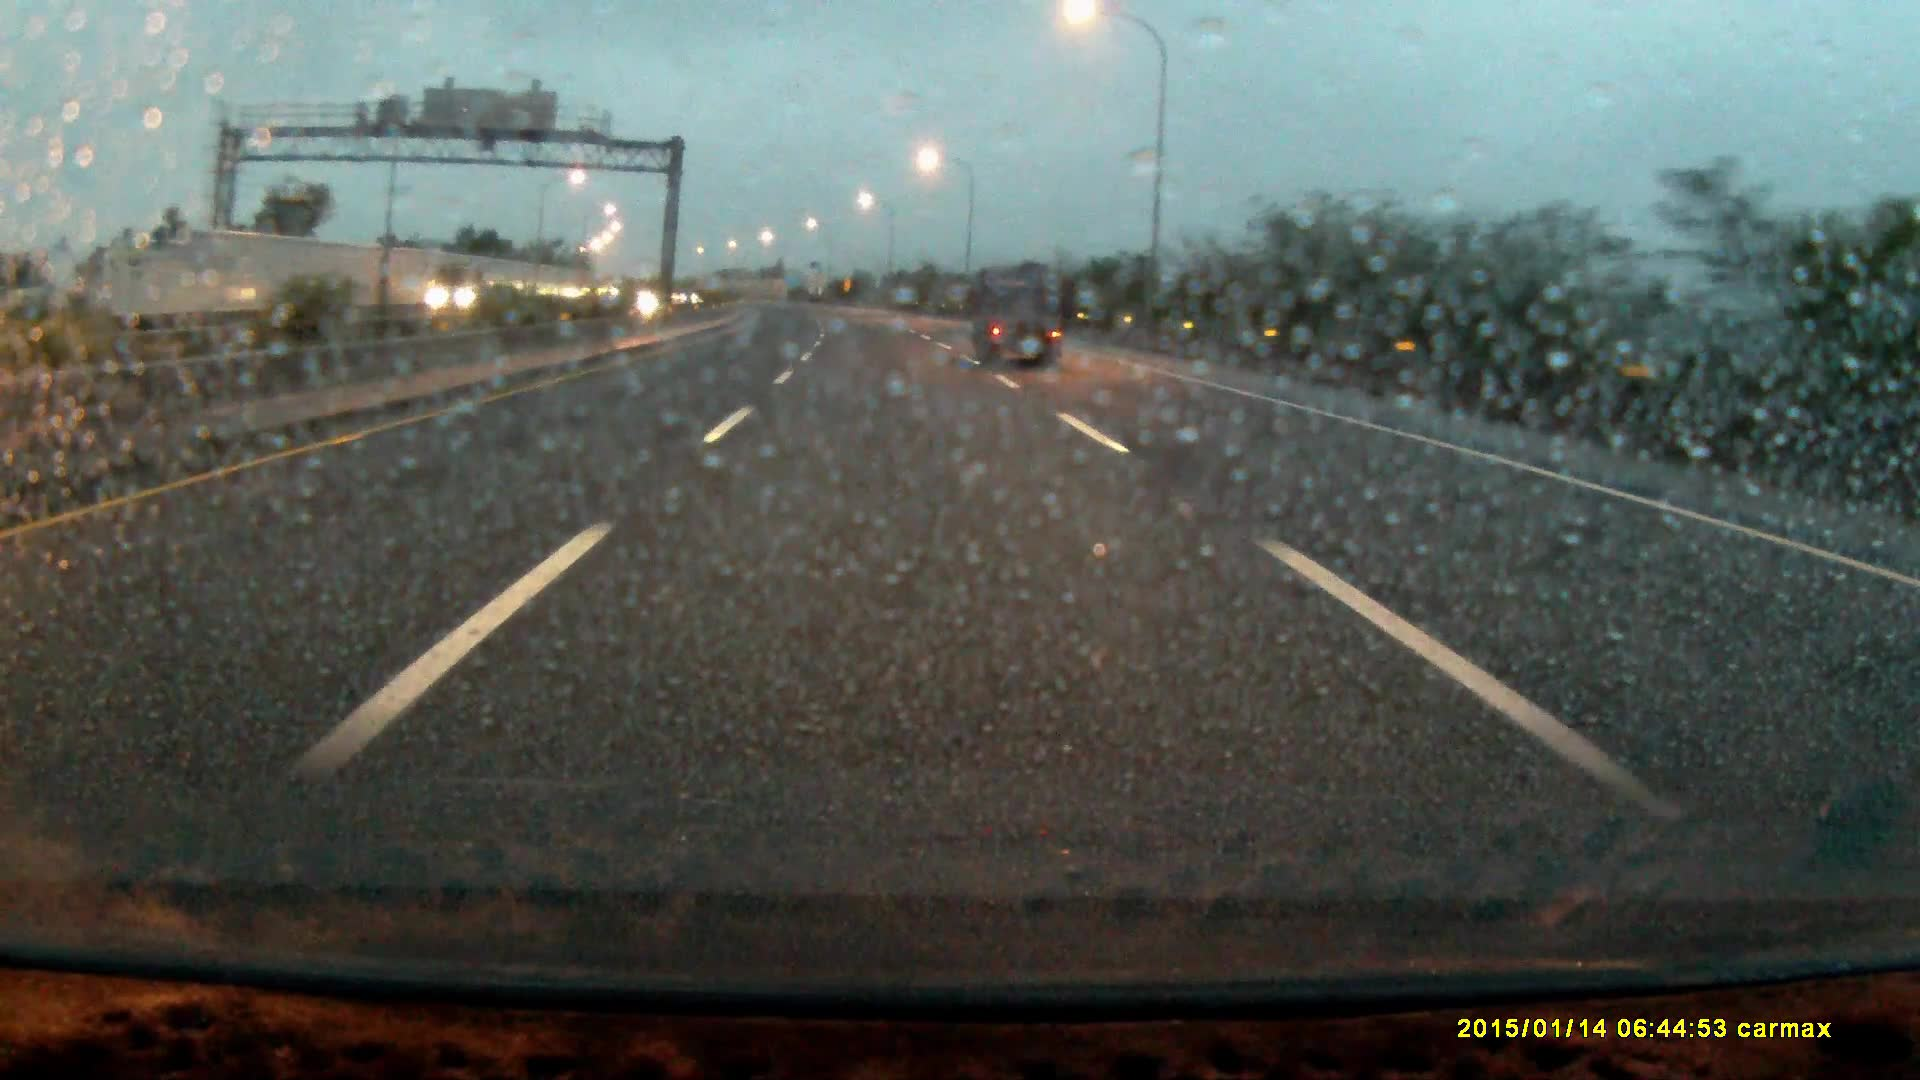vehicle: (975, 269, 1062, 365), (429, 257, 527, 316)
